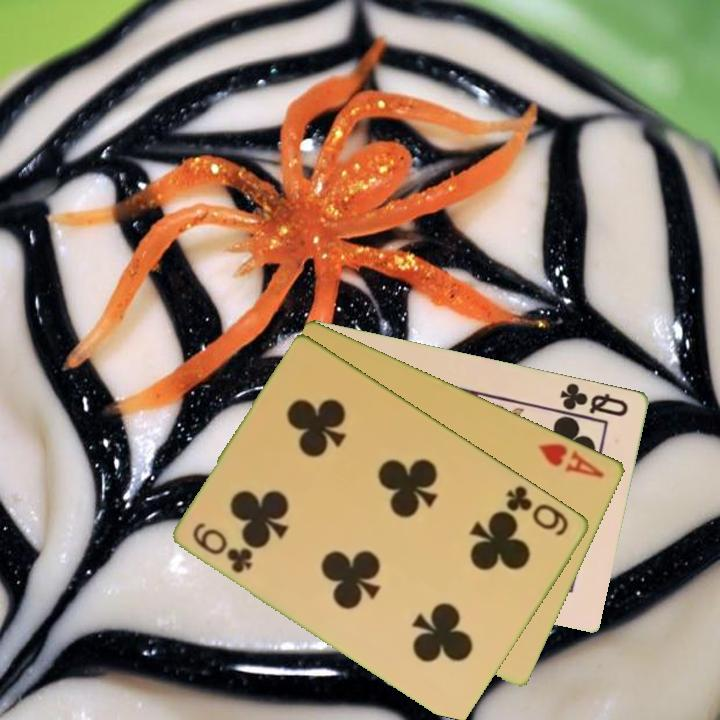6c: (503, 481, 572, 539), (189, 518, 257, 576)
Ah: (535, 439, 608, 481)
Qc: (557, 379, 632, 419)
